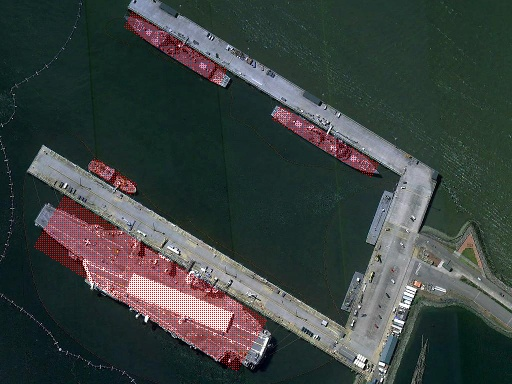ship: (21, 188, 282, 381), (118, 8, 234, 90), (268, 102, 385, 182), (85, 156, 141, 198)
